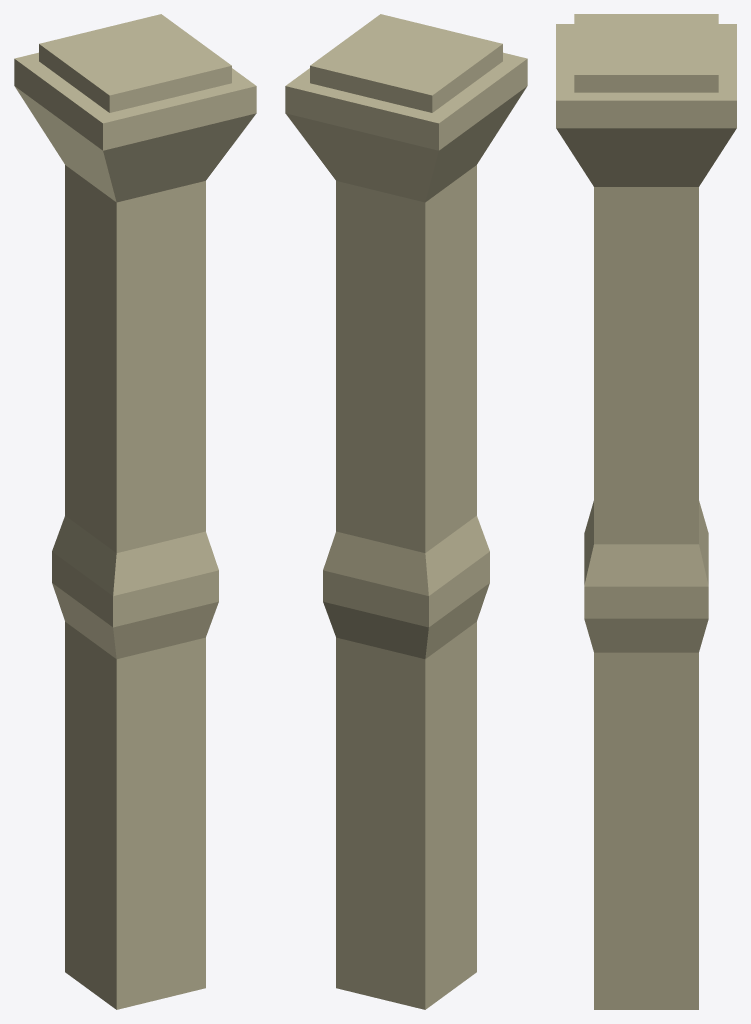
File: Plot_02.fbx
3 renders of one model, left to right at view 1: azimuth 30°, elevation 25°; view 2: azimuth 150°, elevation 25°; view 3: azimuth 270°, elevation 25°, orthographic.
Visible parts, largest first — view 1: Cube.011; view 2: Cube.011; view 3: Cube.011.
Boxes of the visible parts, x1,y1,x2,y2 form: Cube.011: (14,14,256,1009); Cube.011: (285,14,527,1009); Cube.011: (556,14,736,1009).
Bounding box in the file's own units: 24.29 × 140 × 24.29.
